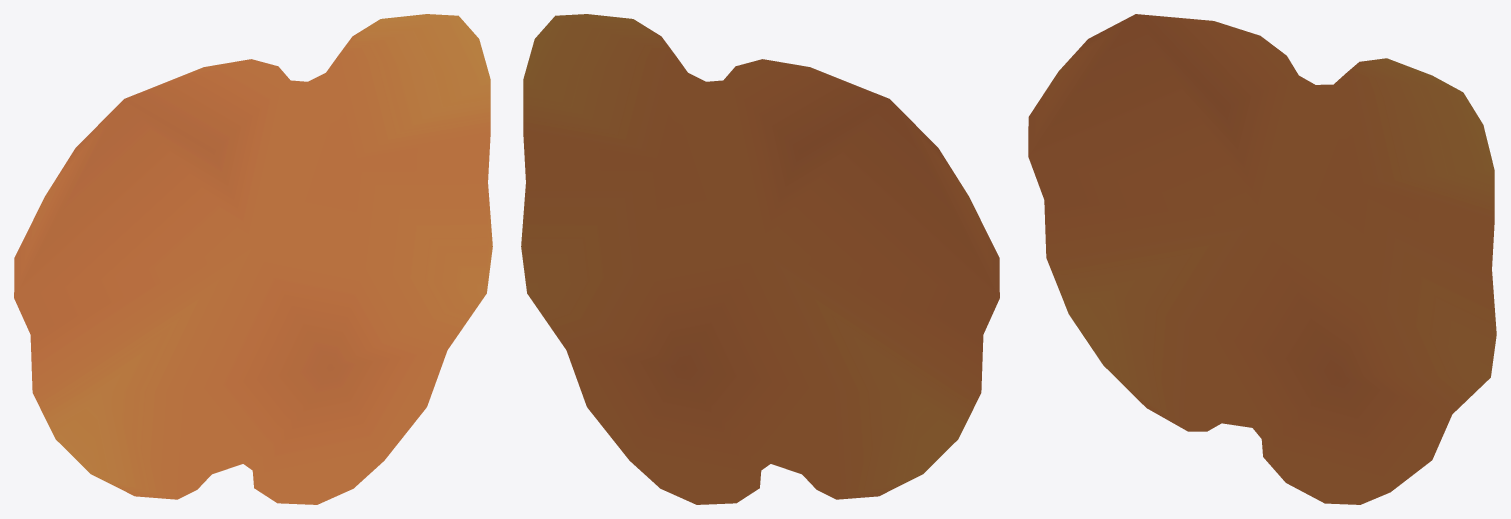
File: Soil 01.FBX
The picture shows the model from 3 angles, left to right: view 1: azimuth 30°, elevation 25°; view 2: azimuth 150°, elevation 25°; view 3: azimuth 330°, elevation 25°; orthographic projection. The views are drawn at different scales.
Visible parts, largest first — view 1: Soil 01; view 2: Soil 01; view 3: Soil 01.
Boxes of the visible parts, x1,y1,x2,y2 form: Soil 01: [14, 14, 492, 504]; Soil 01: [521, 14, 999, 504]; Soil 01: [1028, 14, 1496, 504].
Size of the model in its own units: 893 by 839 by 0.000136.
1 material, 1 textured.
